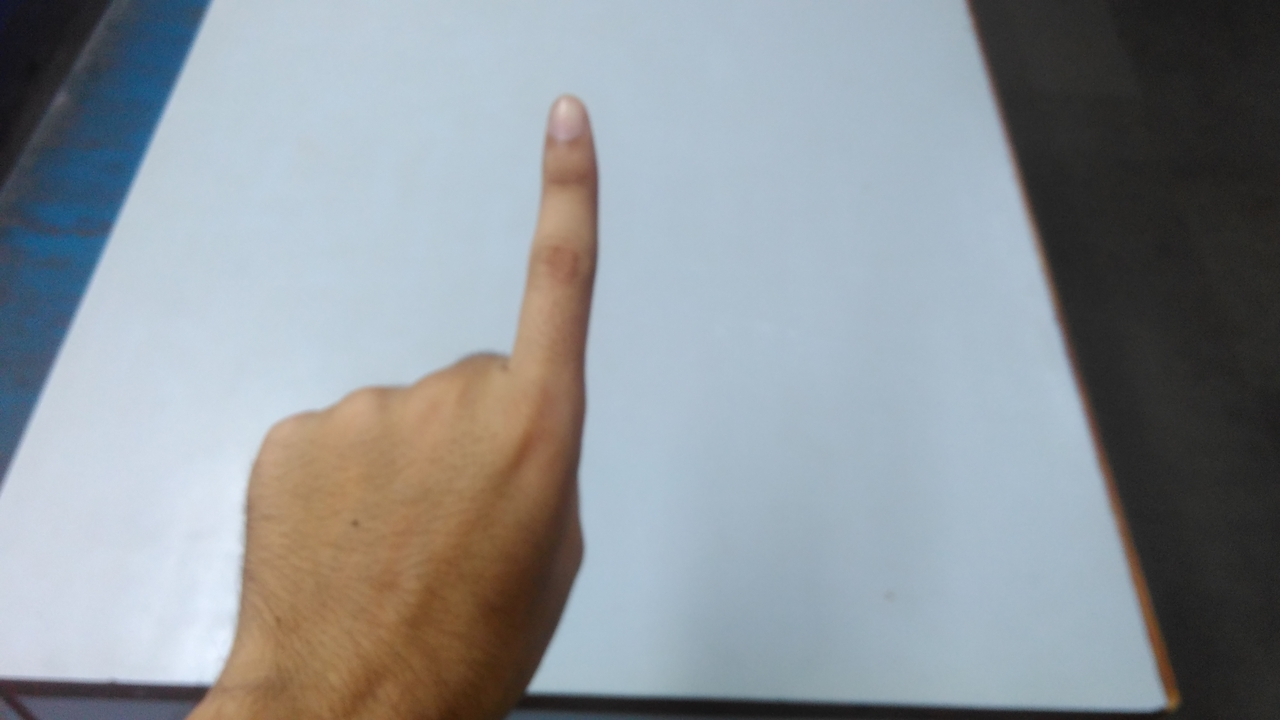fingertip: (538, 86, 600, 142)
